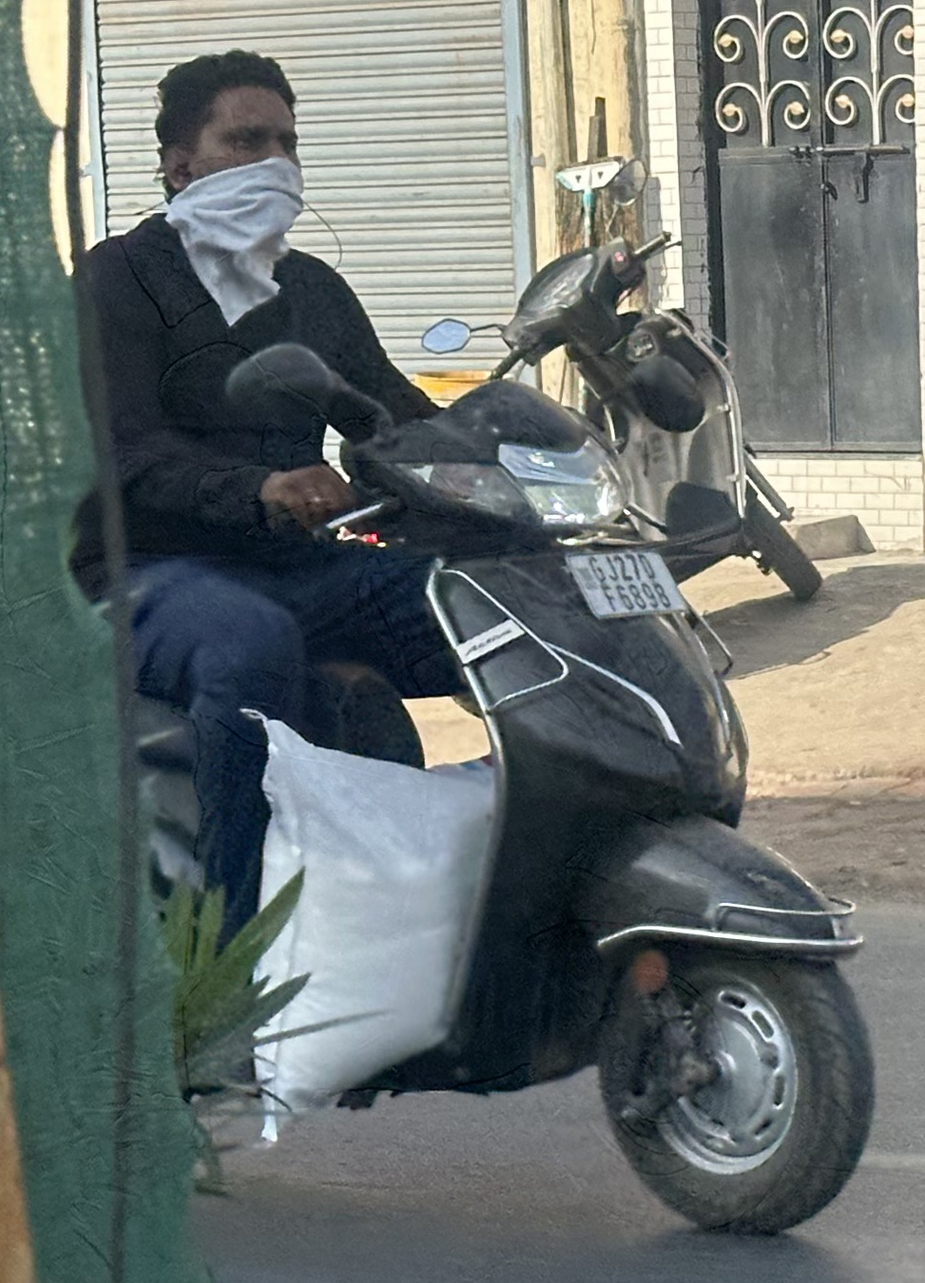BikeWithRider: (0, 17, 884, 1253)
NoHelmet: (133, 36, 334, 251)
